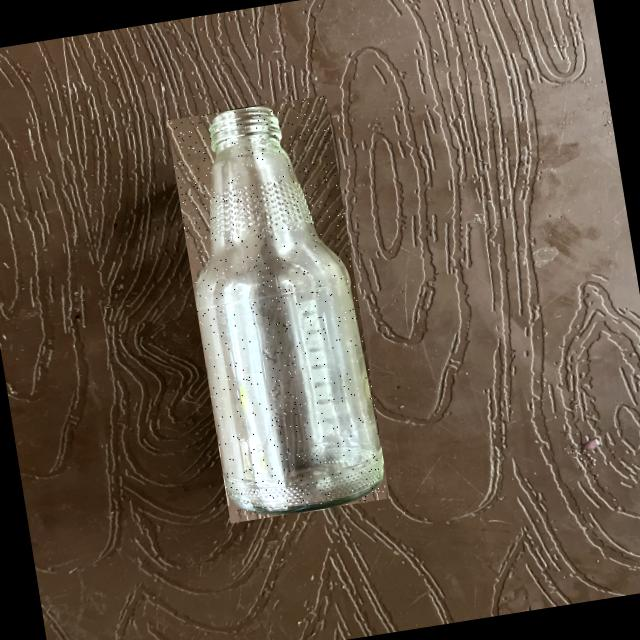Glass_Bottle: (196, 107, 383, 514)
